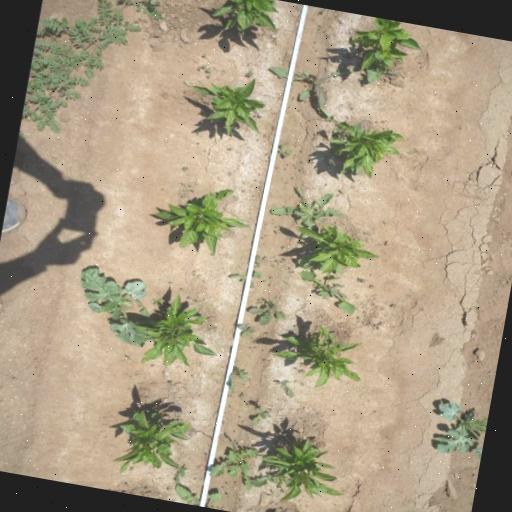plant: (149, 185, 249, 259), (269, 322, 362, 392), (136, 292, 217, 367), (104, 407, 191, 474), (261, 433, 344, 503), (328, 116, 406, 181), (296, 223, 380, 274), (189, 78, 265, 133), (346, 16, 423, 67), (200, 0, 285, 41)
weed: (18, 0, 165, 141), (77, 264, 149, 347), (266, 63, 354, 118), (424, 396, 490, 462), (267, 184, 341, 228), (206, 434, 260, 491), (292, 269, 360, 314), (244, 296, 288, 330), (171, 484, 222, 510), (250, 465, 292, 494), (364, 64, 400, 89), (226, 266, 262, 290), (226, 361, 250, 394), (248, 406, 272, 428), (274, 140, 294, 164), (276, 378, 296, 400), (236, 322, 256, 342), (172, 464, 186, 485), (295, 258, 313, 270), (330, 126, 345, 140), (148, 295, 164, 308), (322, 154, 336, 167), (194, 63, 206, 73), (251, 110, 262, 119), (244, 68, 253, 78), (251, 261, 260, 270), (356, 276, 366, 284), (296, 367, 305, 375), (253, 253, 261, 261), (204, 66, 212, 74), (274, 258, 284, 264), (265, 509, 284, 512), (224, 146, 232, 152), (165, 380, 172, 386), (123, 354, 129, 360), (238, 393, 244, 399), (261, 255, 267, 261), (180, 166, 186, 172), (200, 52, 206, 58), (226, 172, 232, 176), (273, 230, 278, 234), (189, 189, 194, 193), (205, 74, 210, 78), (186, 296, 190, 300), (194, 299, 198, 303), (268, 276, 272, 280), (282, 258, 286, 262), (180, 194, 184, 198), (178, 288, 184, 290), (186, 184, 191, 186)
